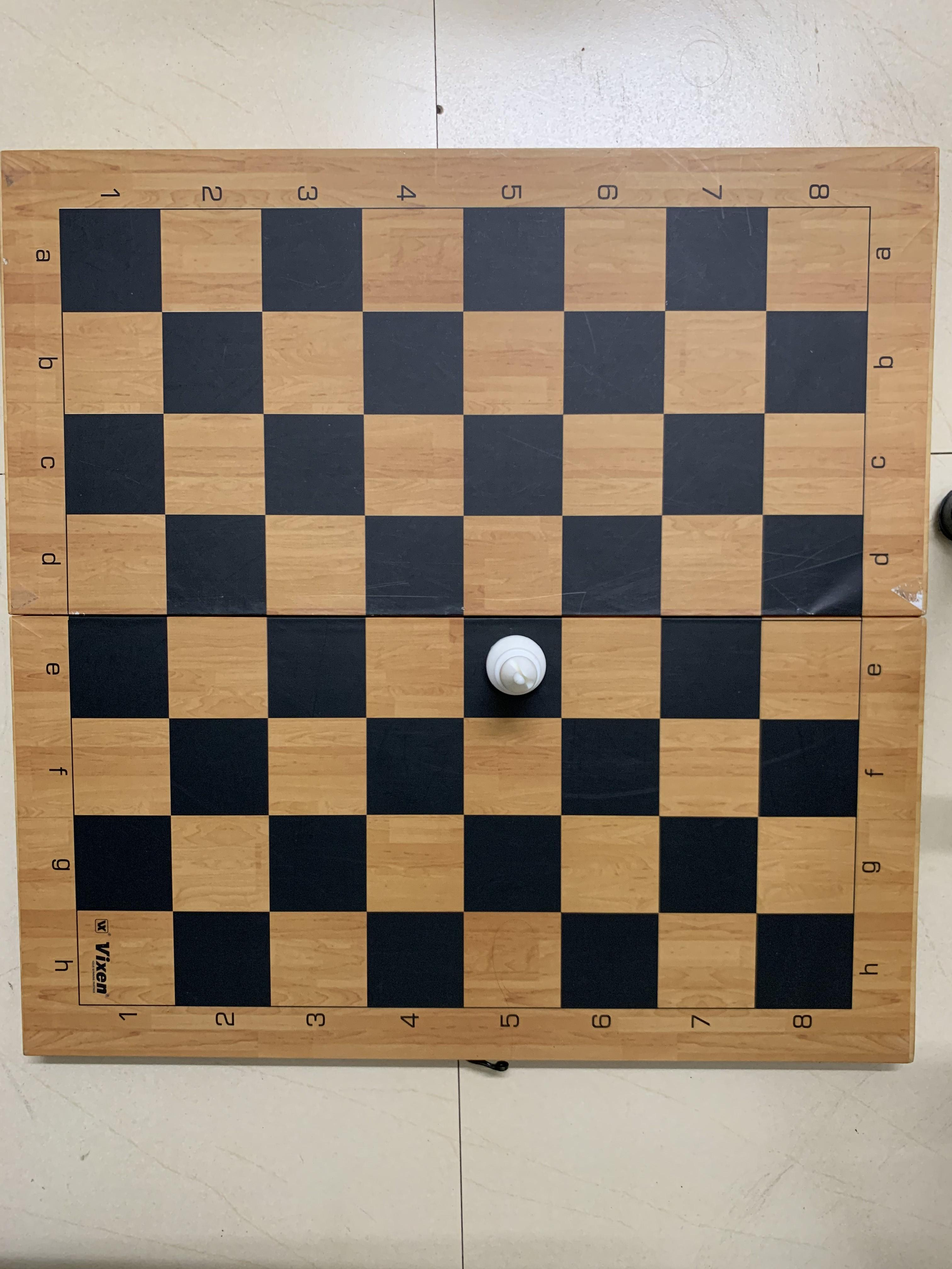white_bishop: (462, 611, 560, 717)
